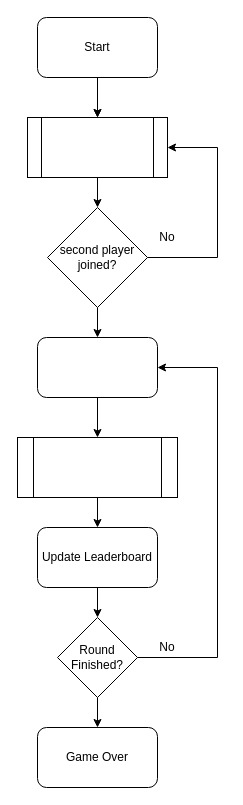
Image size: 243x805. Some labels were removed from this diagram. Each missing label, with the box of its shape:
Start the game: (36, 336, 158, 398)
Waiting Room (Setup room config): (26, 116, 168, 178)
Write the code and submit, test against test cases: (16, 436, 178, 498)
